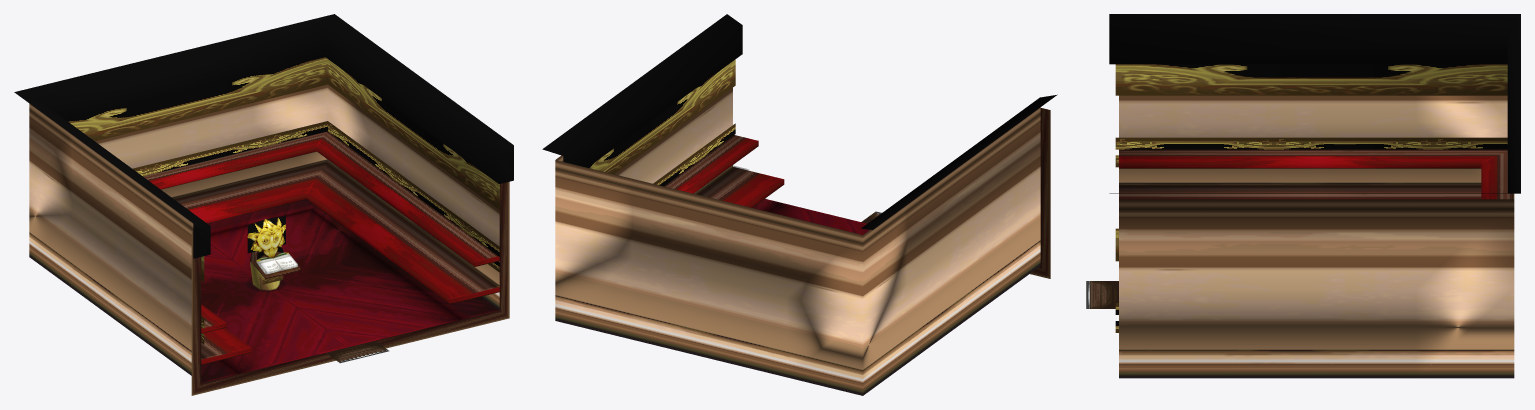
3 renders of one model, left to right at view 1: azimuth 30°, elevation 25°; view 2: azimuth 150°, elevation 25°; view 3: azimuth 270°, elevation 25°, orthographic. The views are drawn at different scales.
Parts seen in each view (by area): view 1: sc_trophy; view 2: sc_trophy; view 3: sc_trophy.
Part boxes in pixels (x1,y1,x2,y2): sc_trophy: (14, 14, 513, 395); sc_trophy: (542, 14, 1057, 395); sc_trophy: (1086, 14, 1520, 378).
Bounding box in the file's own units: 6.45 × 3.39 × 6.6.
13 materials, 13 textured.
